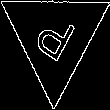P_SW: (29, 6, 80, 69)
